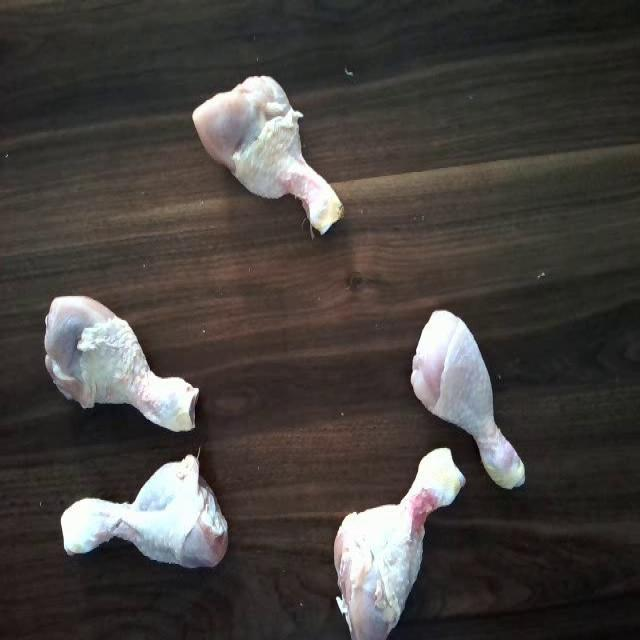leg: (192, 63, 352, 246), (333, 444, 468, 640), (37, 283, 201, 437), (414, 304, 536, 490), (68, 451, 236, 566)
